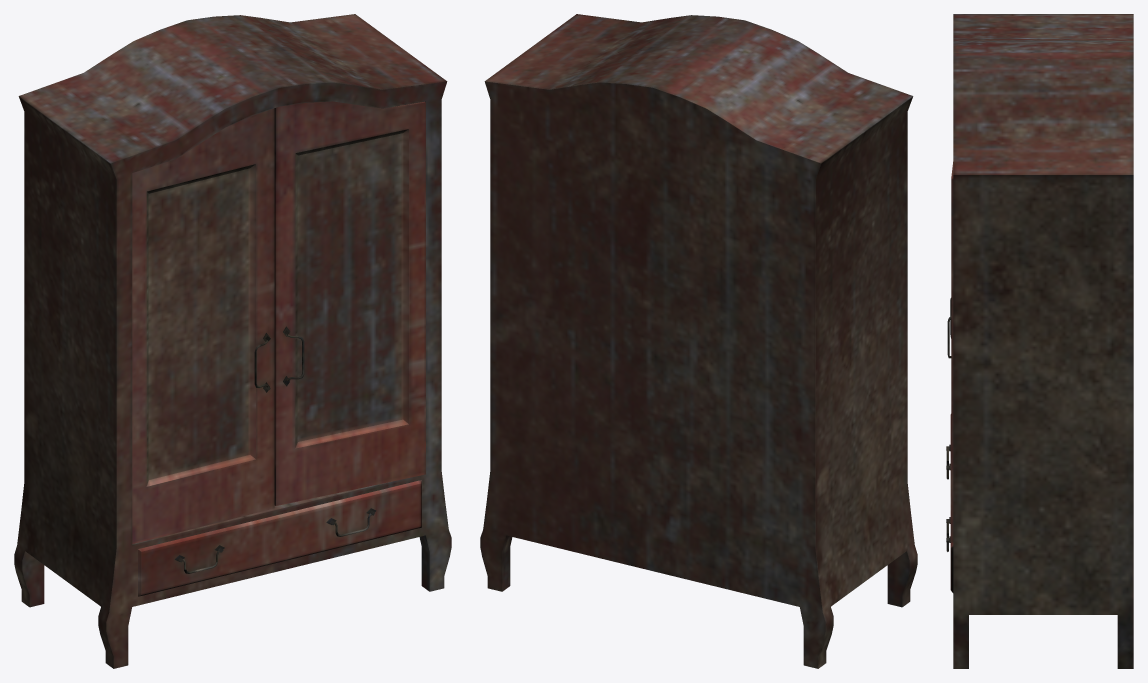
The model's file is Wardrobe_T02.FBX.
3 renders of one model, left to right at view 1: azimuth 30°, elevation 25°; view 2: azimuth 150°, elevation 25°; view 3: azimuth 270°, elevation 25°, orthographic. The views are drawn at different scales.
Visible parts, largest first — view 1: Wardrobe_T02, Door_02, Door_01; view 2: Wardrobe_T02; view 3: Wardrobe_T02, Door_02.
Part boxes in pixels (x1,y1,x2,y2): Wardrobe_T02: (14,14,451,668); Door_02: (274,101,425,505); Door_01: (132,108,274,543); Wardrobe_T02: (480,14,917,668); Wardrobe_T02: (946,14,1133,668); Door_02: (947,162,953,542).
Bounding box in the file's own units: 163 × 244 × 78.1.
